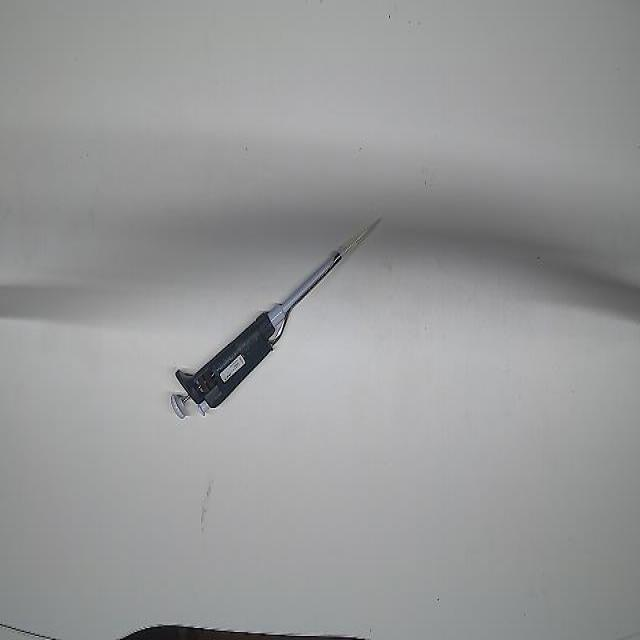Single Channel Pipettor: (168, 234, 370, 424)
